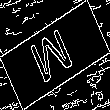M_SE: (29, 22, 81, 88)
